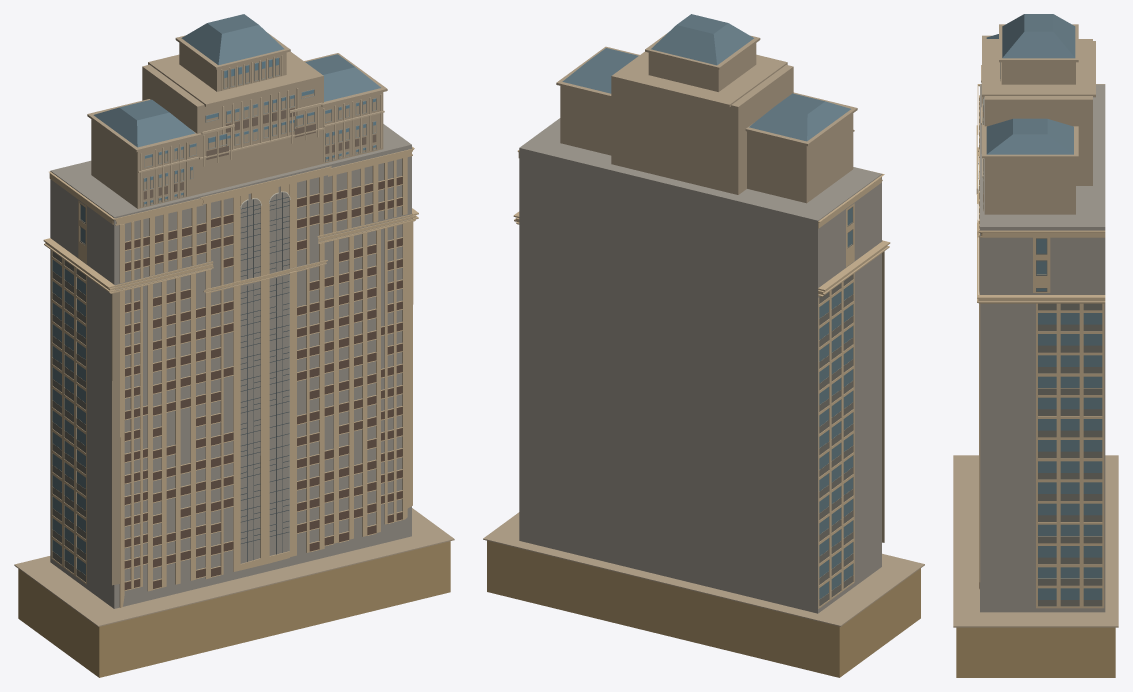
The model's file is detail.glb.
The picture shows the model from 3 angles, left to right: view 1: azimuth 30°, elevation 25°; view 2: azimuth 150°, elevation 25°; view 3: azimuth 270°, elevation 25°; orthographic projection. The views are drawn at different scales.
Parts seen in each view (by area): view 1: I_DISPLAY_exact_original_four_faces, J_right_upper_window_and_exact_lower, F_KEEP_WEB_F_APPROX_crown_envelope_stone, F_KEEP_WEB_F_UNKNOWN_lower_mass, F_KEEP_WEB_brown, F_KEEP_WEB_F_ASSUMED_blue_gray_roof_planes, G_CROWN_PIER_APPROX, F_KEEP_WEB_frame, G_THIN_FIXED_BORDER, F_KEEP_WEB_stone_return, G_VISIBLE_BROWN_SPANDREL, G_VISIBLE_BLUE_SUBFIELD; view 2: I_DISPLAY_exact_original_four_faces, F_KEEP_WEB_F_APPROX_crown_envelope_stone, F_KEEP_WEB_F_UNKNOWN_lower_mass, J_right_upper_window_and_exact_lower, F_KEEP_WEB_F_ASSUMED_blue_gray_roof_planes, F_KEEP_WEB_stone_return; view 3: I_DISPLAY_exact_original_four_faces, J_right_upper_window_and_exact_lower, F_KEEP_WEB_F_APPROX_crown_envelope_stone, F_KEEP_WEB_F_UNKNOWN_lower_mass, F_KEEP_WEB_F_ASSUMED_blue_gray_roof_planes.
Part boxes in pixels (box(x1,y1,x2,y2)): I_DISPLAY_exact_original_four_faces: box(50, 124, 411, 608); J_right_upper_window_and_exact_lower: box(43, 146, 418, 607); F_KEEP_WEB_F_APPROX_crown_envelope_stone: box(14, 32, 454, 626); F_KEEP_WEB_F_UNKNOWN_lower_mass: box(18, 541, 450, 677); F_KEEP_WEB_brown: box(124, 176, 402, 590); F_KEEP_WEB_F_ASSUMED_blue_gray_roof_planes: box(93, 14, 380, 147); G_CROWN_PIER_APPROX: box(138, 55, 384, 207); F_KEEP_WEB_frame: box(240, 192, 289, 561); G_THIN_FIXED_BORDER: box(143, 57, 376, 206); F_KEEP_WEB_stone_return: box(111, 292, 119, 585); G_VISIBLE_BROWN_SPANDREL: box(143, 107, 376, 199); G_VISIBLE_BLUE_SUBFIELD: box(144, 58, 375, 204); I_DISPLAY_exact_original_four_faces: box(519, 118, 881, 613); F_KEEP_WEB_F_APPROX_crown_envelope_stone: box(483, 33, 924, 626); F_KEEP_WEB_F_UNKNOWN_lower_mass: box(487, 540, 920, 677); J_right_upper_window_and_exact_lower: box(513, 150, 890, 608); F_KEEP_WEB_F_ASSUMED_blue_gray_roof_planes: box(562, 14, 850, 141); F_KEEP_WEB_stone_return: box(882, 251, 884, 542); I_DISPLAY_exact_original_four_faces: box(980, 84, 1105, 612); J_right_upper_window_and_exact_lower: box(976, 84, 1105, 608); F_KEEP_WEB_F_APPROX_crown_envelope_stone: box(953, 24, 1118, 627); F_KEEP_WEB_F_UNKNOWN_lower_mass: box(956, 627, 1115, 677); F_KEEP_WEB_F_ASSUMED_blue_gray_roof_planes: box(986, 14, 1075, 154).
Size of the model in its own units: 71 by 110 by 29.
